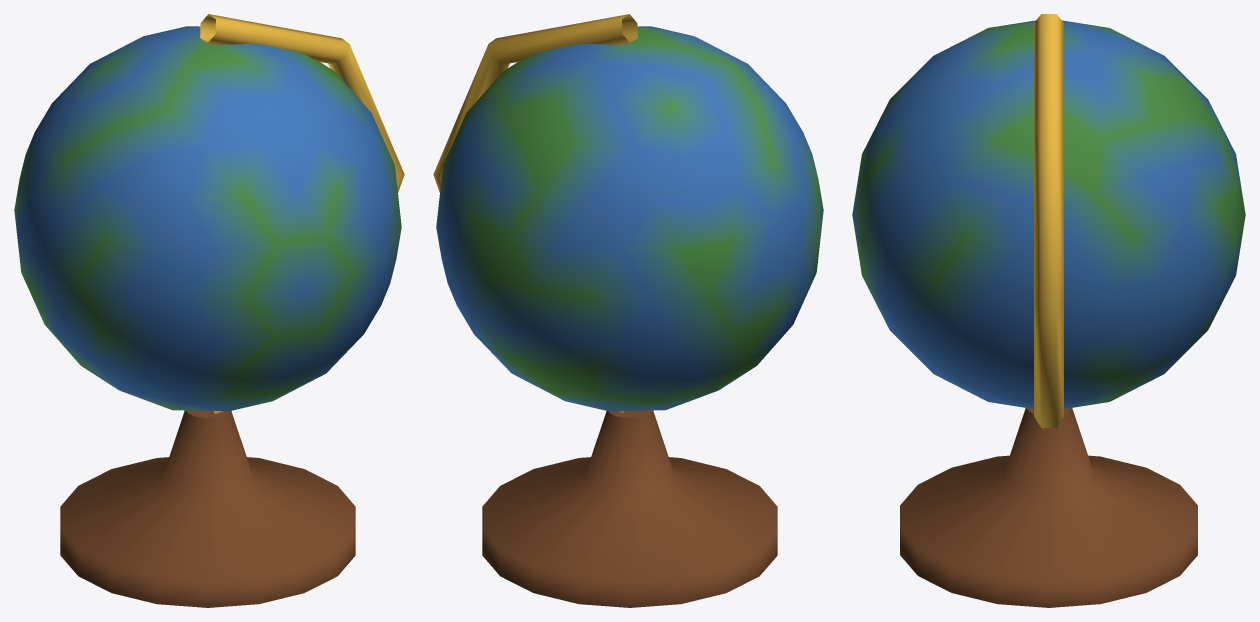
File: furn_globe.glb
3 views of the same model, side by side, from view 1: azimuth 30°, elevation 25°; view 2: azimuth 150°, elevation 25°; view 3: azimuth 270°, elevation 25° (orthographic).
Parts seen in each view (by area): view 1: furn_globe_move, furn_globe_main; view 2: furn_globe_move, furn_globe_main; view 3: furn_globe_move, furn_globe_main.
Part boxes in pixels (box(x1,y1,x2,y2)): furn_globe_move: box(14, 26, 401, 411); furn_globe_main: box(60, 14, 404, 607); furn_globe_move: box(436, 26, 823, 411); furn_globe_main: box(433, 14, 777, 607); furn_globe_move: box(852, 20, 1245, 408); furn_globe_main: box(900, 14, 1197, 607).
Size of the model in its own units: 0.2787 by 0.388 by 0.26.
